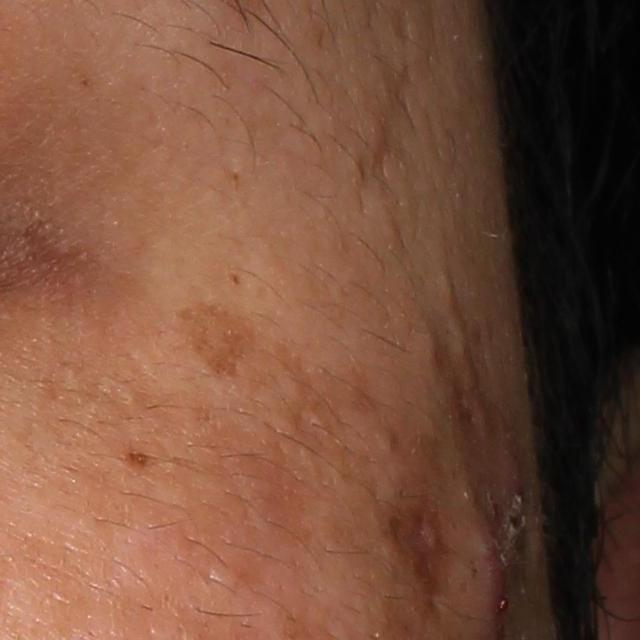atrophic_scar: (380, 480, 459, 616), (352, 143, 401, 216)
melasma: (174, 298, 269, 385)
